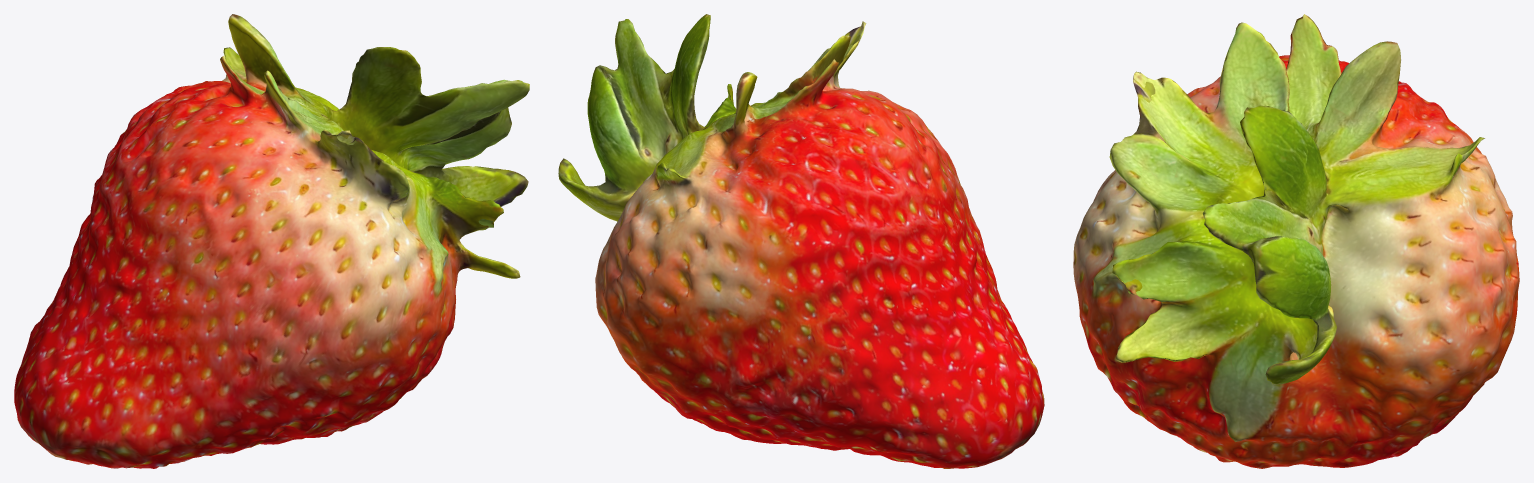
The model's file is single_strawberry.glb.
The picture shows the model from 3 angles, left to right: view 1: azimuth 30°, elevation 25°; view 2: azimuth 150°, elevation 25°; view 3: azimuth 270°, elevation 25°; orthographic projection. The views are drawn at different scales.
Parts seen in each view (by area): view 1: Object_2; view 2: Object_2; view 3: Object_2.
Boxes of the visible parts, x1,y1,x2,y2 form: Object_2: [14, 14, 529, 468]; Object_2: [558, 14, 1044, 468]; Object_2: [1073, 14, 1519, 468].
Size of the model in its own units: 0.51 by 0.3688 by 0.3684.
1 material, 1 textured.
